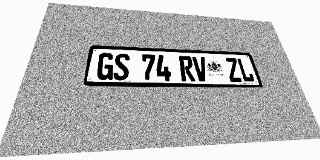4: (156, 55, 171, 81)
7: (141, 54, 156, 81)
G: (96, 53, 114, 80)
L: (236, 58, 255, 82)
R: (179, 56, 195, 81)
S: (113, 53, 130, 80)
V: (192, 56, 209, 81)
Z: (224, 58, 243, 82)
